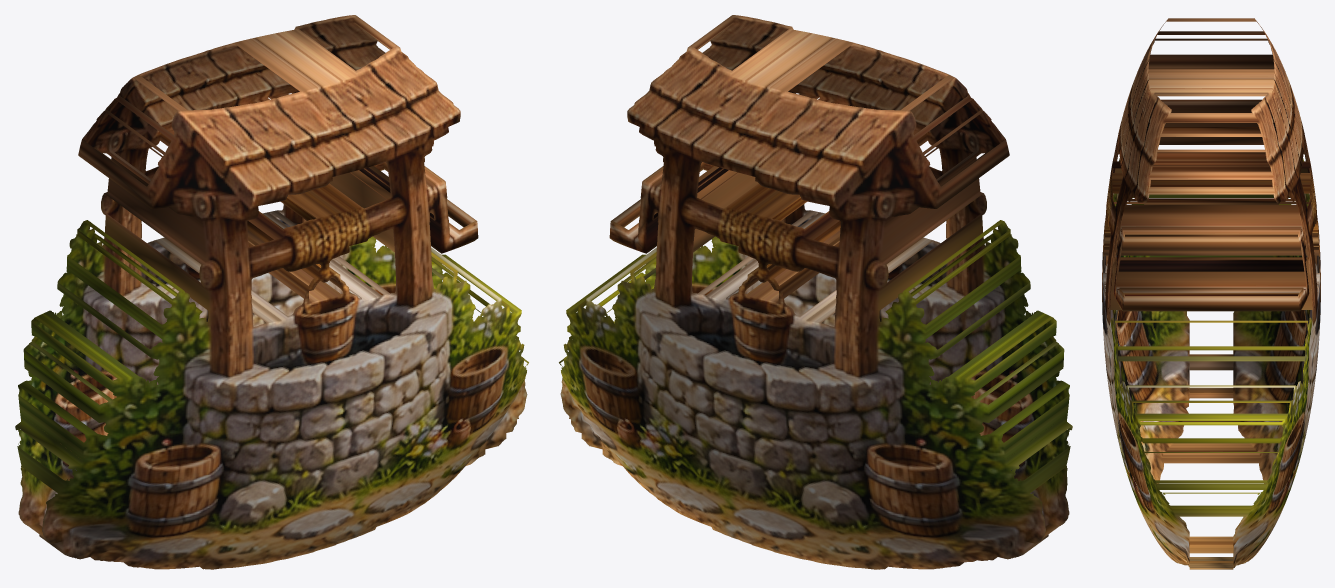
The picture shows the model from 3 angles, left to right: view 1: azimuth 30°, elevation 25°; view 2: azimuth 150°, elevation 25°; view 3: azimuth 270°, elevation 25°; orthographic projection. The views are drawn at different scales.
Visible parts, largest first — view 1: villages:7; view 2: villages:7; view 3: villages:7.
Part boxes in pixels (bbox=[...]): villages:7: bbox=[15, 15, 528, 569]; villages:7: bbox=[559, 15, 1072, 569]; villages:7: bbox=[1102, 18, 1320, 569].
Bounding box in the file's own units: 1.01 × 0.9556 × 0.4199.
1 material, 1 textured.
